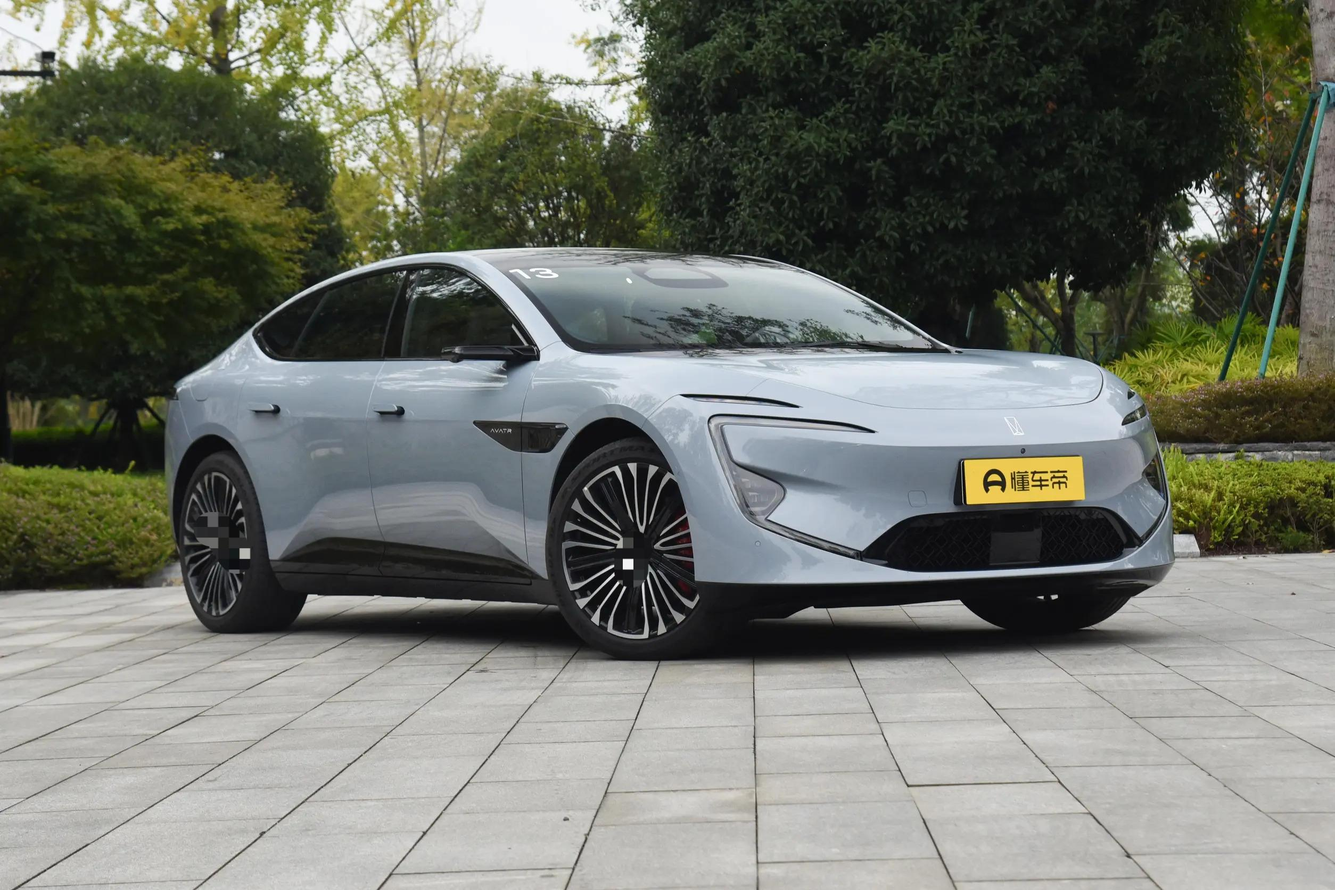AVATR: (1004, 417, 1024, 435)
